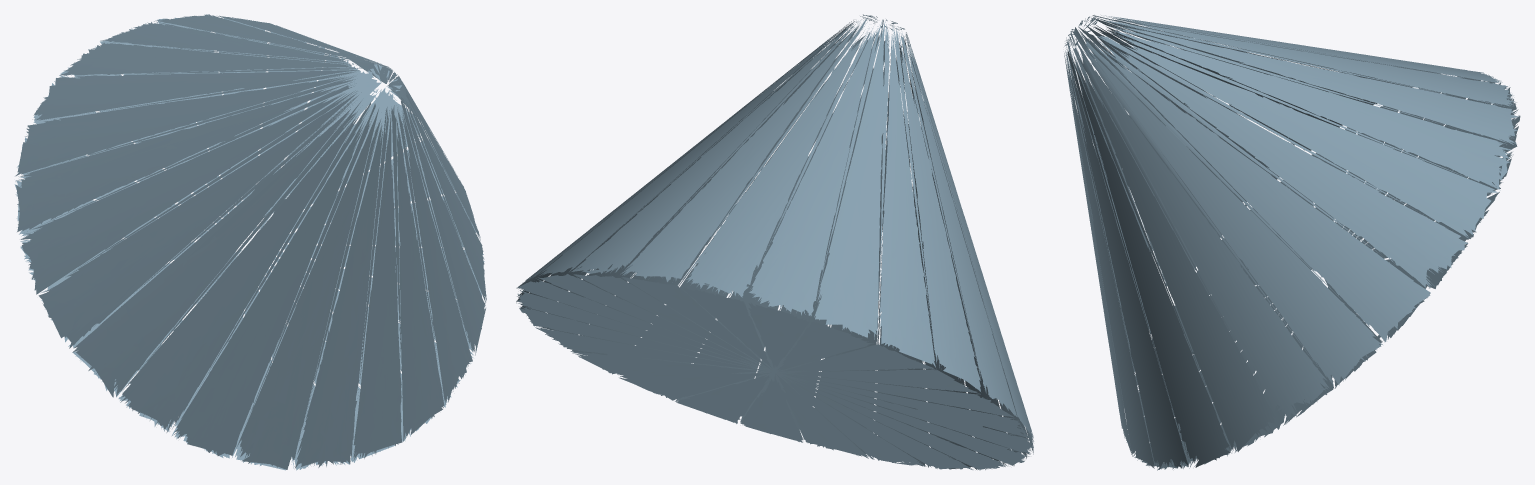
The picture shows the model from 3 angles, left to right: view 1: azimuth 30°, elevation 25°; view 2: azimuth 150°, elevation 25°; view 3: azimuth 270°, elevation 25°; orthographic projection. The views are drawn at different scales.
Size of the model in its own units: 361 by 317 by 312.
